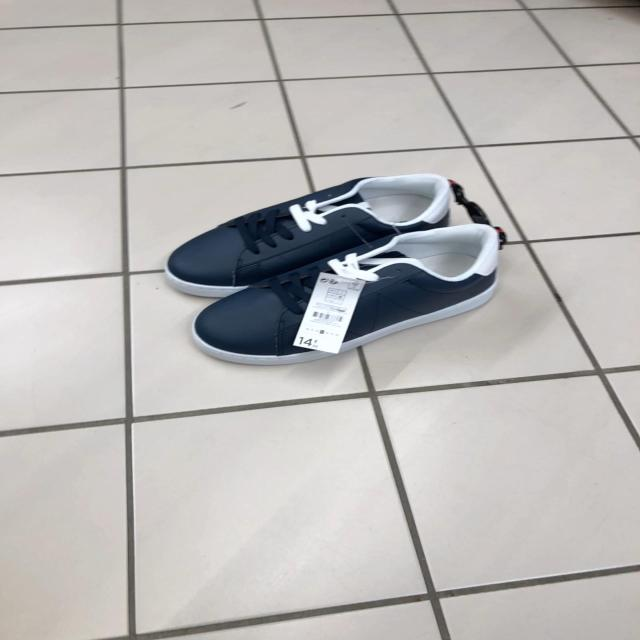shoe: (190, 222, 503, 369), (157, 173, 458, 289)
